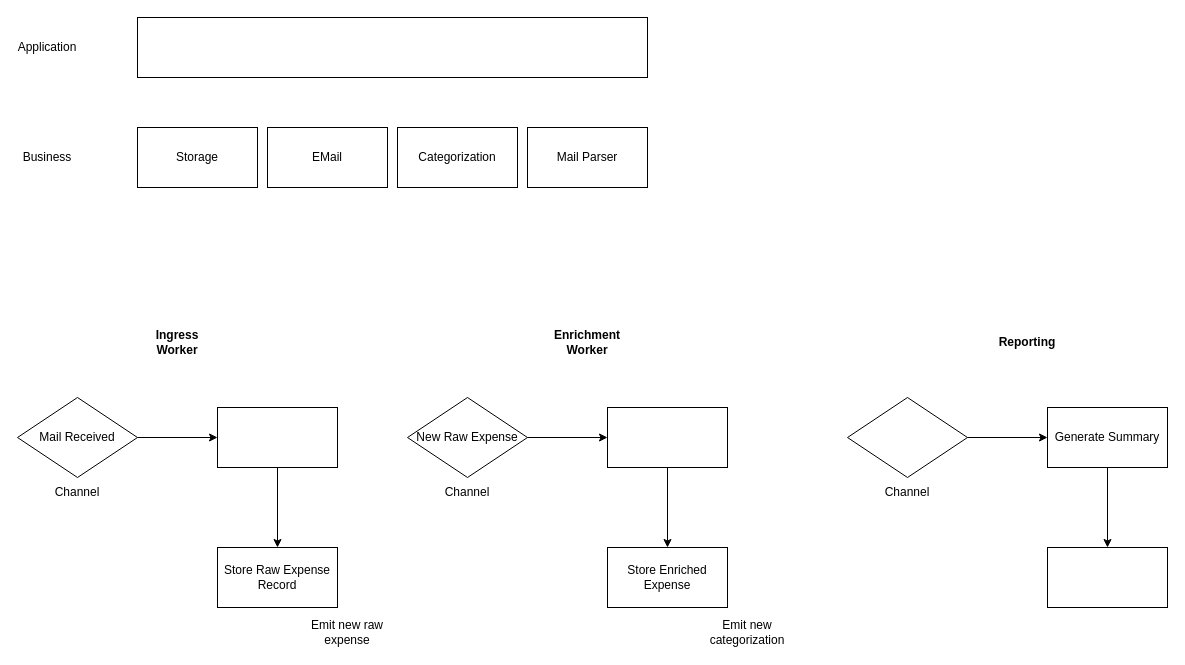
Some shapes in this 1185 by 665 pixel diagram are drawn without their labels. Each missing label, with the centre of its shape:
"Categorize new expenses" goes at [667,437].
"New expenses categorized" goes at [907,437].
"Parse Incoming" goes at [277,437].
"Send Summary Email" goes at [1107,577].
"Worker Host" goes at [392,47].
